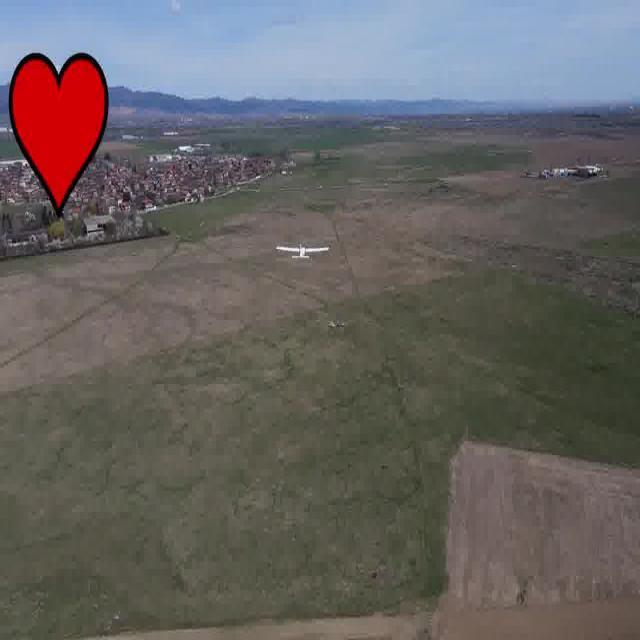iha: (270, 238, 330, 267)
